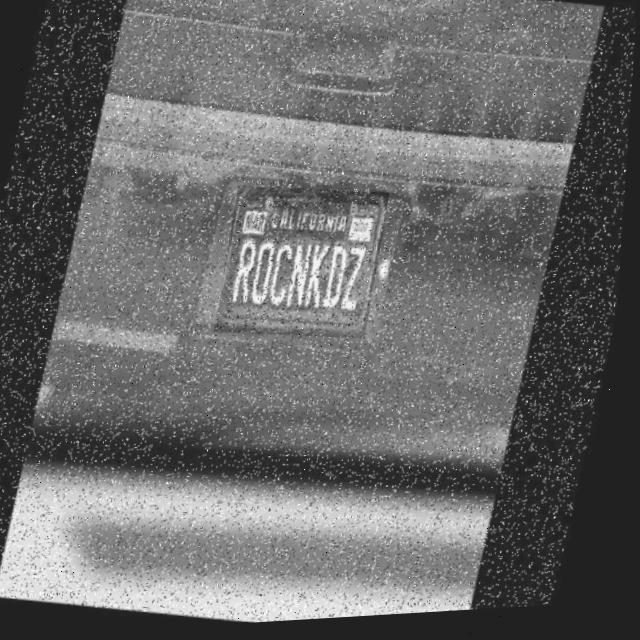LicensePlate: (217, 181, 393, 350)
